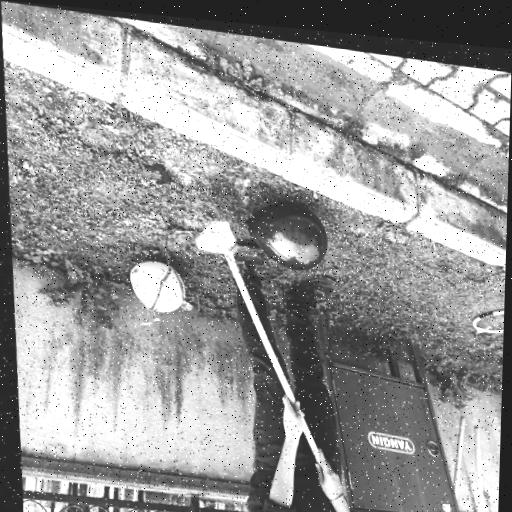balloon: (235, 192, 330, 274), (123, 252, 181, 318)
